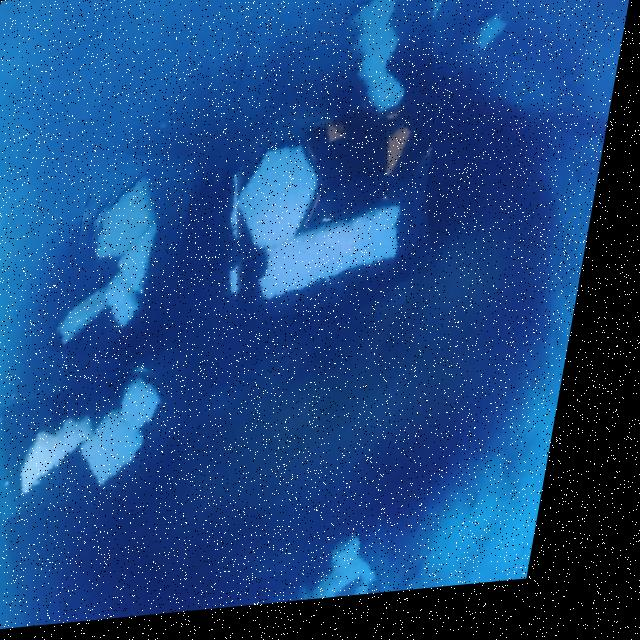litter: (185, 0, 465, 330), (0, 359, 215, 513), (63, 152, 204, 365), (221, 205, 397, 306), (219, 113, 323, 242), (340, 0, 424, 140), (82, 173, 183, 288), (14, 388, 126, 488), (79, 401, 170, 499), (319, 523, 419, 609), (111, 205, 183, 290), (133, 372, 207, 446), (461, 0, 528, 78), (73, 275, 138, 354), (114, 271, 171, 321)
